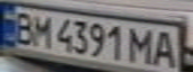1: (106, 22, 127, 61)
3: (69, 18, 90, 55)
4: (51, 16, 75, 52)
9: (84, 20, 109, 58)
A: (148, 28, 181, 69)
B: (6, 9, 39, 45)
M: (127, 25, 157, 65), (27, 12, 57, 48)
